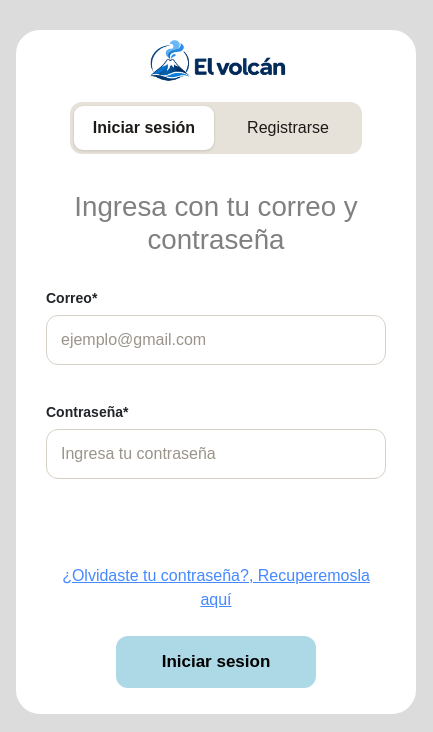
Test: App - autenticación › si el backend rechaza las credenciales muestra el error y no entra
In the field labelled "Correo*": (216, 340) [46,315,386,365], type "camila.rojas@correo.cl"
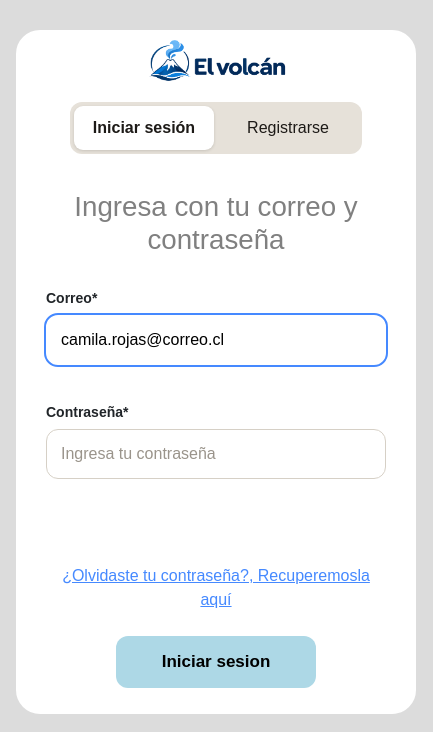
In the password field labelled "Contraseña*": (216, 454) [46,429,386,479], type "Clave1234"
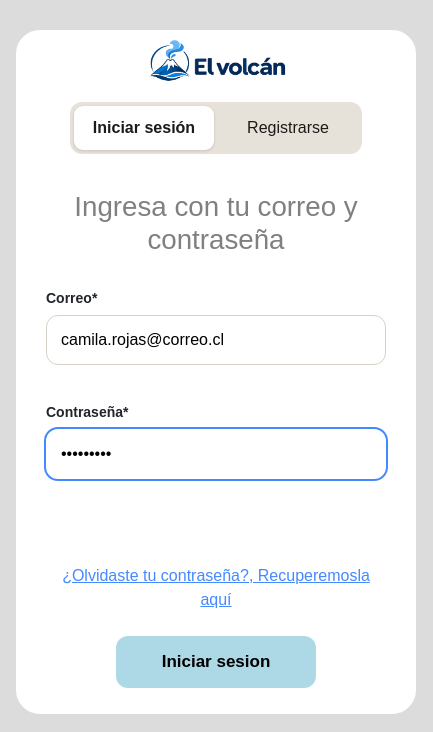
Click the button "Iniciar sesion": (216, 662) [116,636,316,688]
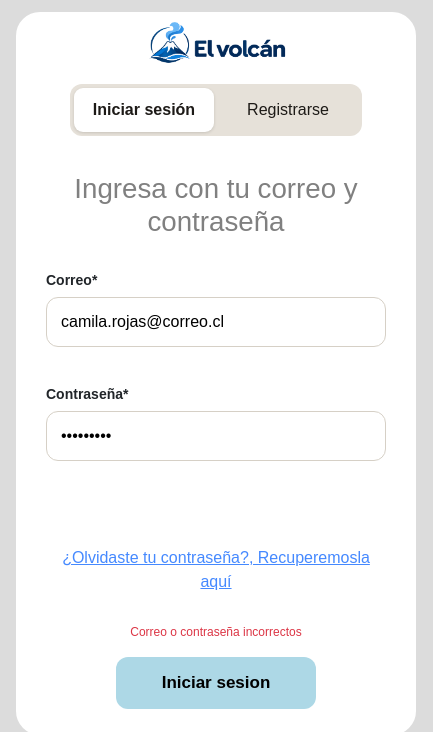
Check: the message reads "Correo o contraseña incorrectos", box [130,625,302,639]
